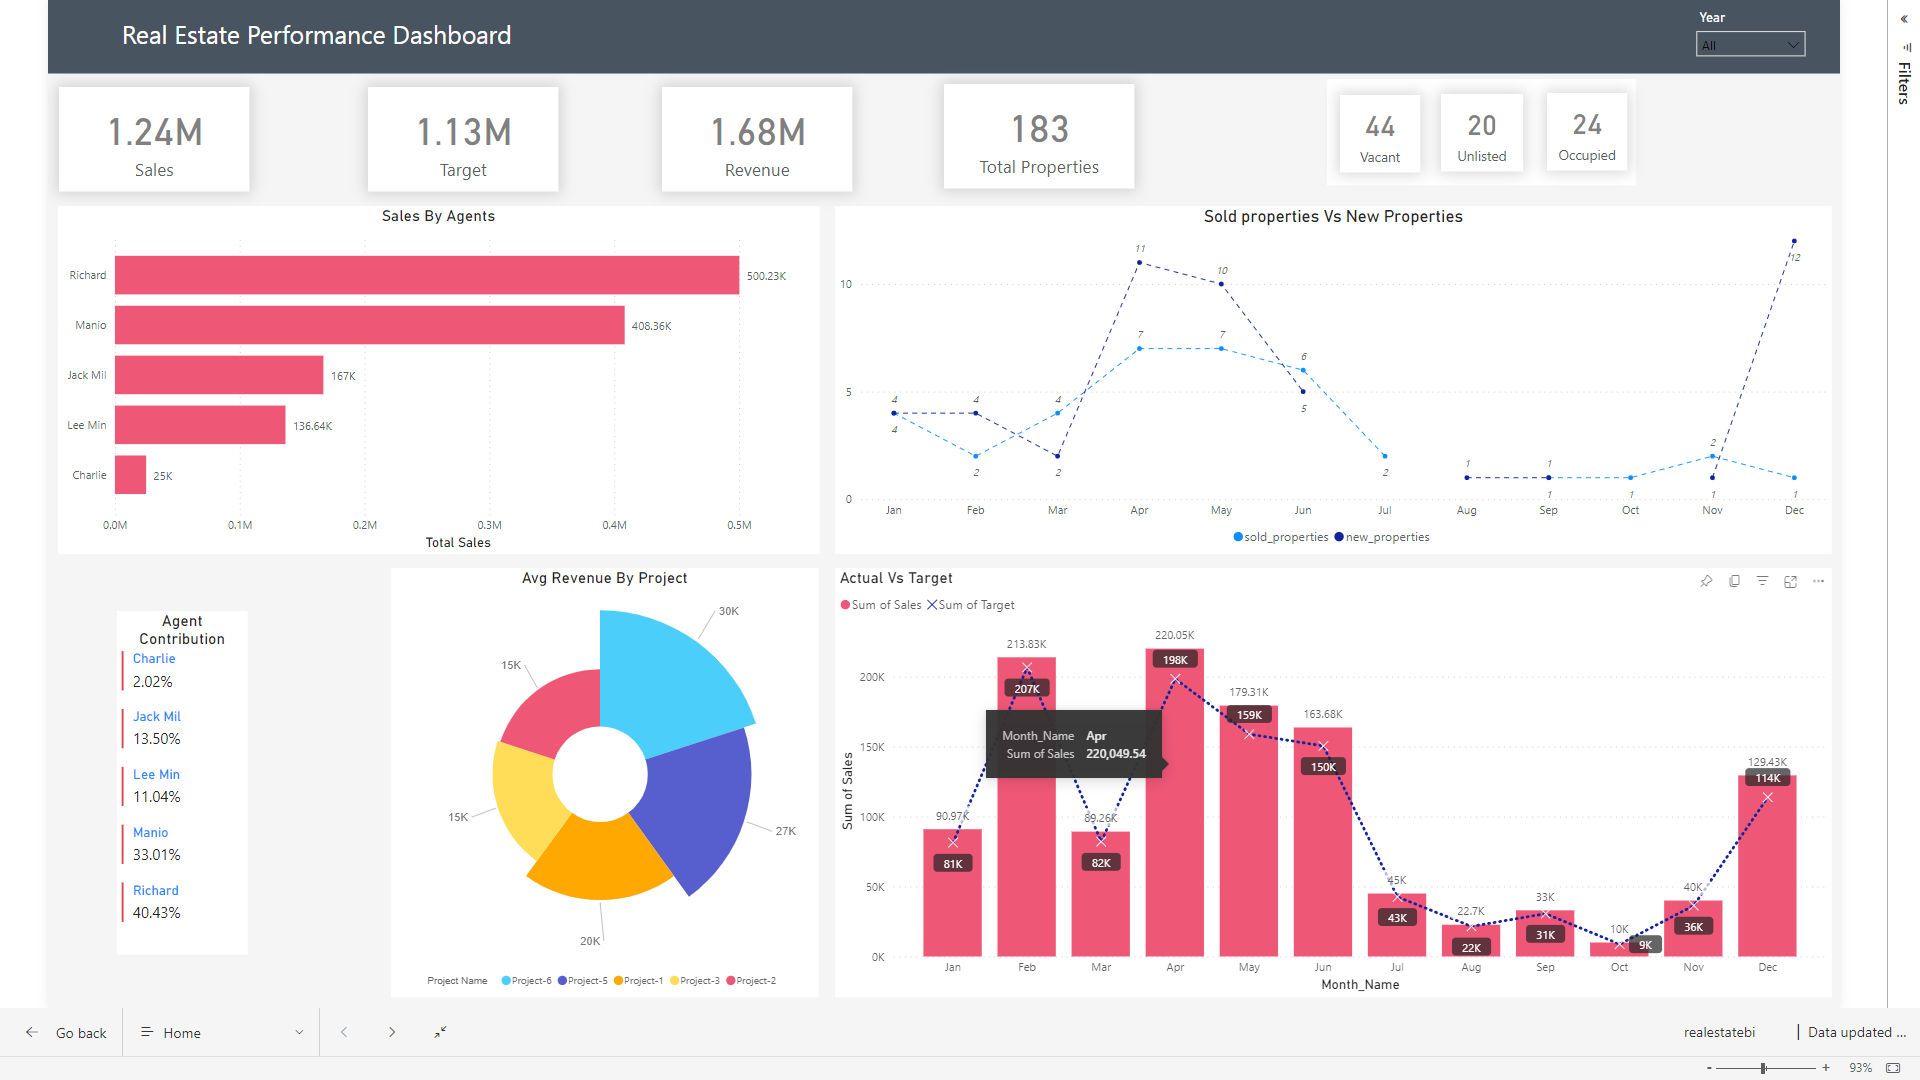

What the dashboard file says about the page in this screenshot:
{"tool":"powerbi","page":{"name":"Home","canvas":[1920,1080],"ordinal":0},"visuals":[{"type":"shape","box":[0,0,1920,78.8],"z":0},{"type":"textbox","box":[1370,84.6,331.2,113.8],"z":1000},{"type":"textbox","box":[74.4,13.1,739.7,51.1],"z":2000},{"type":"card","fields":{"Values":["Sum(Real Estate Data.Sales)"]},"box":[11.7,93.4,204.3,112.3],"z":3000},{"type":"card","fields":{"Values":["Sum(Real Estate Data.Target)"]},"box":[342.9,93.4,204.3,112.3],"z":4000},{"type":"card","fields":{"Values":["Sum(Real Estate Data.Revenue)"]},"box":[658,93.4,204.3,112.3],"z":5000},{"type":"card","fields":{"Values":["Sum(Real Estate Data.Total Property)"]},"box":[960,90.5,204.3,112.3],"z":6000},{"type":"card","fields":{"Values":["CountNonNull(Real Estate Data.Property Status)"]},"box":[1384.6,102.1,86.1,83.2],"z":7000},{"type":"card","fields":{"Values":["CountNonNull(Real Estate Data.Property Status)"]},"box":[1492.5,100.7,87.5,83.2],"z":8000},{"type":"card","fields":{"Values":["CountNonNull(Real Estate Data.Property Status)"]},"box":[1606.3,99.2,86.1,83.2],"z":9000},{"type":"barChart","title":"Sales By Agents","fields":{"Category":["Real Estate Data.Agent"],"Y":["Sum(Real Estate Data.Sales)"]},"box":[10.2,220.3,815.6,373.5],"z":10000},{"type":"lineChart","title":"Sold properties Vs New Properties","fields":{"Category":["DimDate.Month_Name"],"Y":["Real Estate Data.sold_properties","Real Estate Data.new_properties"]},"box":[843.3,220.3,1068,373.5],"z":11000},{"type":"multiRowCard","title":"Agent Contribution","fields":{"Values":["Real Estate Data.Agent","Real Estate Data.agent_contribution"]},"box":[74.4,655.1,140.1,367.7],"z":12000},{"type":"AsterPlot1443303142064","title":"Avg Revenue By Project","fields":{"Category":["Real Estate Data.Project Name"],"Y":["Avg(Real Estate Data.Revenue)"]},"box":[367.7,608.4,458.1,459.6],"z":13000},{"type":"lineClusteredColumnComboChart","title":"Actual Vs Target ","fields":{"Category":["DimDate.Month_Name"],"Y":["Sum(Real Estate Data.Sales)"],"Y2":["Sum(Real Estate Data.Target)"]},"box":[843.3,608.4,1068,459.6],"z":14000},{"type":"slicer","fields":{"Values":["DimDate.Year"]},"box":[1756.6,5.8,137.1,67.1],"z":15000}]}

Visuals, with their boxes on the page's 1920x1080 design canvas (x1, y1, x2, y2). These are canvas units, not pixel positions in the 1920x1080 screenshot, which may show the page scaled, cropped or inside an application window:
shape: 0/0/1920/79
textbox: 1370/85/1701/198
textbox: 74/13/814/64
card - Sum(Real Estate Data.Sales): 12/93/216/206
card - Sum(Real Estate Data.Target): 343/93/547/206
card - Sum(Real Estate Data.Revenue): 658/93/862/206
card - Sum(Real Estate Data.Total Property): 960/90/1164/203
card - CountNonNull(Real Estate Data.Property Status): 1385/102/1471/185
card - CountNonNull(Real Estate Data.Property Status): 1492/101/1580/184
card - CountNonNull(Real Estate Data.Property Status): 1606/99/1692/182
"Sales By Agents" barChart: 10/220/826/594
"Sold properties Vs New Properties" lineChart: 843/220/1911/594
"Agent Contribution" multiRowCard: 74/655/214/1023
"Avg Revenue By Project" AsterPlot1443303142064: 368/608/826/1068
"Actual Vs Target " lineClusteredColumnComboChart: 843/608/1911/1068
slicer - DimDate.Year: 1757/6/1894/73
